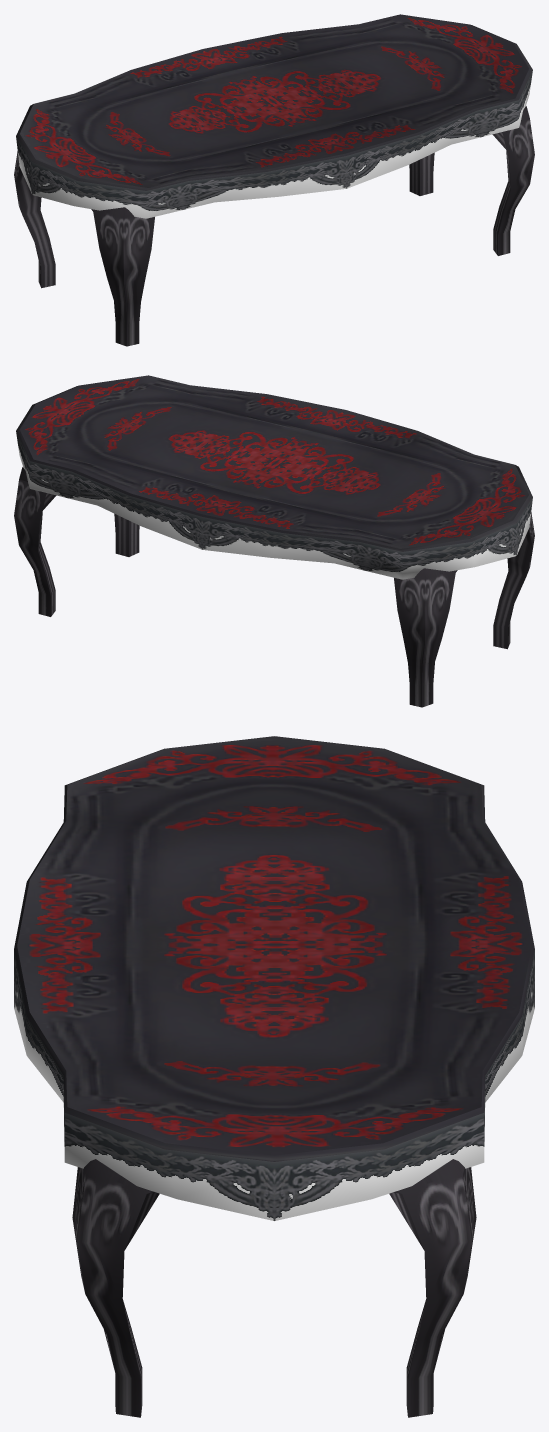
Rendered from VictorianDiningTable_HD.fbx.
3 renders of one model, top to bottom at view 1: azimuth 30°, elevation 25°; view 2: azimuth 150°, elevation 25°; view 3: azimuth 270°, elevation 25°, orthographic. The views are drawn at different scales.
Visible parts, largest first — view 1: VictorianDiningTable; view 2: VictorianDiningTable; view 3: VictorianDiningTable.
Part boxes in pixels (x1,y1,x2,y2): VictorianDiningTable: (14,14,534,346); VictorianDiningTable: (14,375,534,707); VictorianDiningTable: (14,736,534,1417).
Bounding box in the file's own units: 1.84 × 0.6024 × 0.9495.
